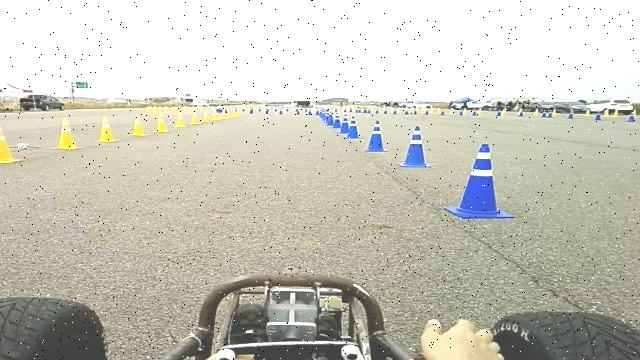blue cone: (443, 142, 516, 218), (398, 125, 433, 168), (363, 120, 389, 152), (345, 118, 362, 140), (594, 113, 602, 120), (628, 115, 636, 122), (568, 113, 575, 119)
yellow cone: (52, 116, 83, 150), (0, 121, 23, 164), (96, 115, 119, 142), (130, 113, 150, 136), (154, 112, 170, 133), (175, 115, 187, 128), (190, 112, 202, 124), (202, 111, 212, 122), (212, 112, 222, 121), (221, 111, 231, 119), (234, 108, 242, 117)
